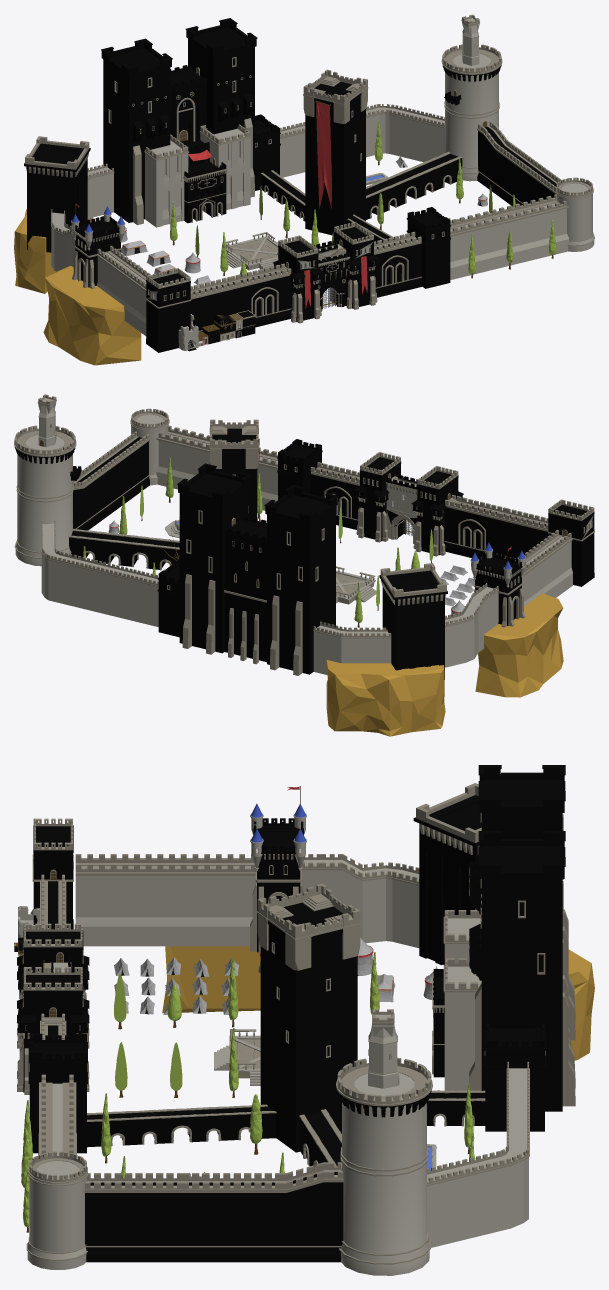
File: CastleGroup1.fbx
The picture shows the model from 3 angles, top to bottom: view 1: azimuth 30°, elevation 25°; view 2: azimuth 150°, elevation 25°; view 3: azimuth 270°, elevation 25°; orthographic projection. The views are drawn at different scales.
Visible parts, largest first — view 1: citadel_main, citadel_tower_f, wall_H10m_L50m_1, cliff_01__5_, citadel_tower_c, citadel_tower_e, citadel_tower_corner, citadel_bridge__1_, citadel_wall_a__1_, wall_H10m_L50m, citadel_wall_a, citadel_tower_a__1_ (+21 smaller); view 2: citadel_main, cliff_06__7_, citadel_tower_c, cliff_01__5_, citadel_tower_e, wall_H10m_L50m_1, citadel_bridge__1_, citadel_wall_a__1_, citadel_tower_f, citadel_tower_a__1_, wall_H10m_L50m, citadel_tower_b (+22 smaller); view 3: citadel_main, citadel_tower_f, citadel_tower_c, wall_H10m_L50m, citadel_wall_b__1_, citadel_wall_b, citadel_tower_e, castle_tower_round, citadel_wall_incline, citadel_bridge__2_, castle_tower_rectangular, citadel_tower_b (+21 smaller).
Boxes of the visible parts, box(x1,y1,x2,y2) form: citadel_main: box(101, 18, 257, 227); citadel_tower_f: box(303, 69, 368, 235); wall_H10m_L50m_1: box(450, 194, 568, 279); cliff_01__5_: box(43, 265, 141, 365); citadel_tower_c: box(441, 44, 502, 181); citadel_tower_e: box(24, 136, 90, 252); citadel_tower_corner: box(145, 268, 191, 352); citadel_bridge__1_: box(366, 151, 462, 219); citadel_wall_a__1_: box(231, 263, 291, 327); wall_H10m_L50m: box(96, 245, 152, 335); citadel_wall_a: box(374, 231, 422, 297); citadel_tower_a__1_: box(273, 235, 323, 323); citadel_main: box(177, 463, 338, 675); cliff_06__7_: box(326, 660, 445, 736); citadel_tower_c: box(14, 425, 81, 566); cliff_01__5_: box(475, 593, 563, 697); citadel_tower_e: box(379, 563, 447, 679); wall_H10m_L50m_1: box(156, 425, 277, 510); citadel_bridge__1_: box(68, 528, 179, 570); citadel_wall_a__1_: box(444, 495, 506, 558); citadel_tower_f: box(209, 419, 258, 519); citadel_tower_a__1_: box(411, 466, 463, 556); wall_H10m_L50m: box(515, 530, 572, 606); citadel_tower_b: box(470, 542, 526, 627); citadel_main: box(432, 765, 575, 1111); citadel_tower_f: box(257, 883, 361, 1152); citadel_tower_c: box(336, 1057, 432, 1275); wall_H10m_L50m: box(75, 854, 256, 946); citadel_wall_b__1_: box(182, 1173, 281, 1262); citadel_wall_b: box(84, 1173, 182, 1262); citadel_tower_e: box(413, 783, 481, 965); castle_tower_round: box(26, 1151, 87, 1269); citadel_wall_incline: box(281, 1162, 343, 1262); citadel_bridge__2_: box(87, 1104, 276, 1147); castle_tower_rectangular: box(484, 1023, 545, 1131); citadel_tower_b: box(250, 786, 306, 955).
Bounding box in the file's own units: 22317 × 8821 × 14736.
